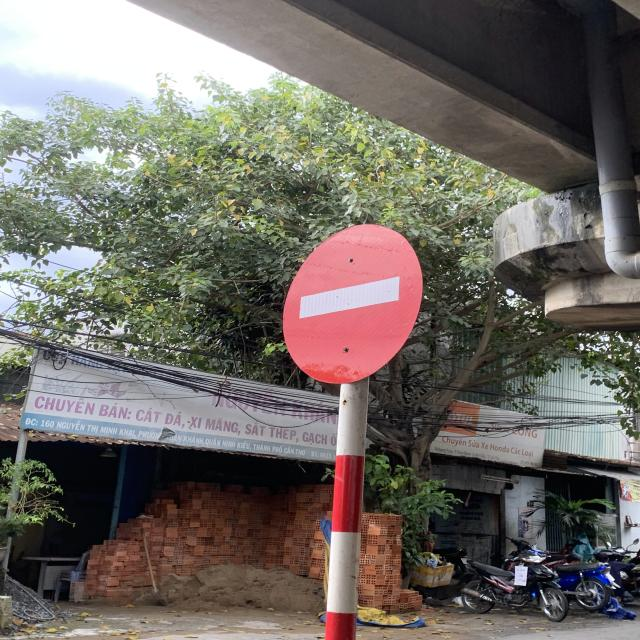Cam_Di_Nguoc_Chieu: (282, 225, 422, 384)
